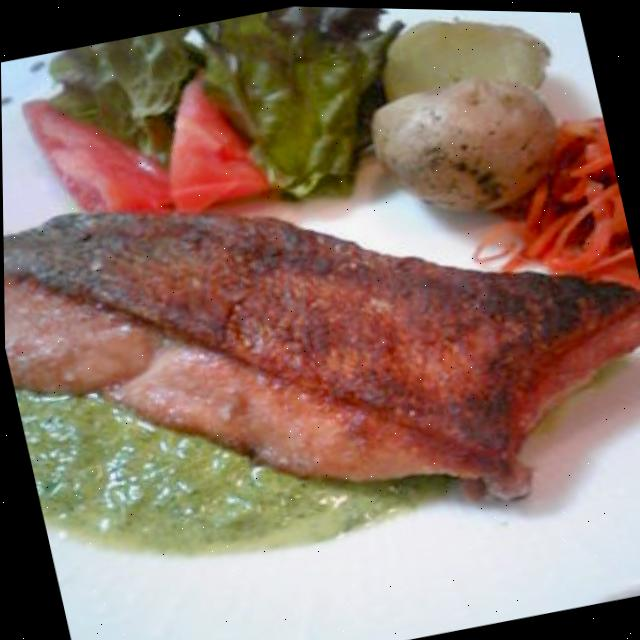熟制海鲜: (1, 111, 640, 622)
